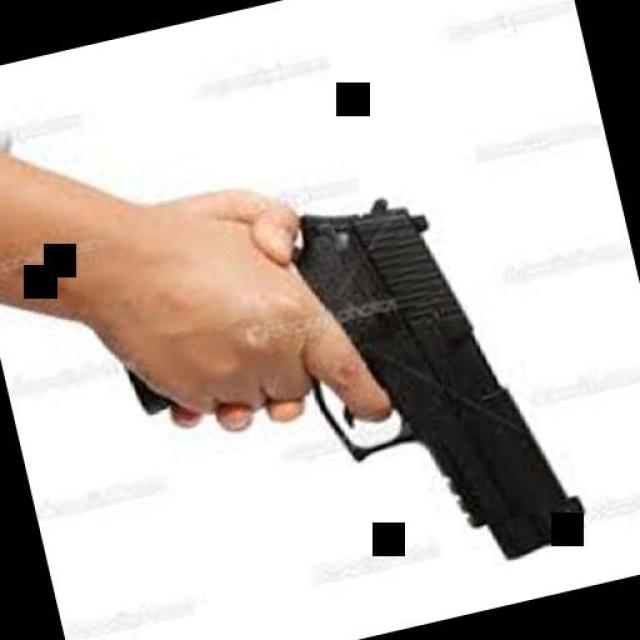gun: (86, 158, 589, 636)
